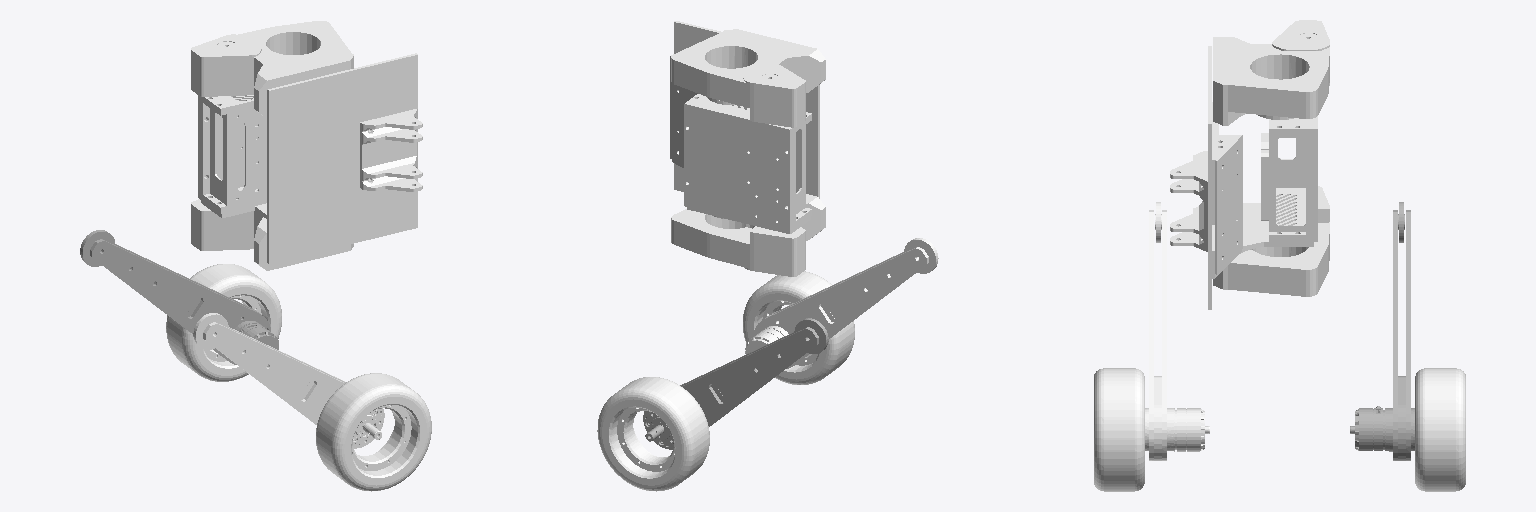
URDF robot description (meta_wl):
<?xml version="1.0" encoding="utf-8"?>
<!-- This URDF was automatically created by SolidWorks to URDF Exporter! Originally created by [author] ([email redacted]) 
     Commit Version: 1.6.0-4-g7f85cfe  Build Version: 1.6.7995.38578
     For more information, please see http://wiki.ros.org/sw_urdf_exporter -->
<robot
  name="meta_wl">
  <link
    name="base_link">
    <inertial>
      <origin
        xyz="-0.0245766710804395 1.12954262751902E-05 0.0551837979582068"
        rpy="0 0 0" />
      <mass
        value="3.422" />
      <inertia
        ixx="16516E-6"
        ixy="408E-6"
        ixz="-1864E-6"
        iyy="12477E-6"
        iyz="301E-6"
        izz="22170E-6" />
    </inertial>
    <visual>
      <origin
        xyz="0 0 0"
        rpy="0 0 0" />
      <geometry>
        <mesh
          filename="../meshes/base_link.STL" />
      </geometry>
      <material
        name="">
        <color
          rgba="1 1 1 0.35" />
      </material>
    </visual>
    <collision>
      <origin
        xyz="0 0 0"
        rpy="0 0 0" />
      <geometry>
        <mesh
          filename="../meshes/base_link.STL" />
      </geometry>
    </collision>
  </link>
  <link
    name="l_leg_link">
    <inertial>
      <origin
        xyz="0.167137810001204 0.0899559625004974 0.00695176949094712"
        rpy="0 0 0" />
      <mass
        value="0.205618463841969" />
      <inertia
        ixx="0.00046553666866474"
        ixy="-4.84637387403824E-05"
        ixz="5.46297742111448E-08"
        iyy="4.41718311000394E-05"
        iyz="5.54929141091411E-08"
        izz="0.000498095795724903" />
    </inertial>
    <visual>
      <origin
        xyz="0 0 0"
        rpy="0 0 0" />
      <geometry>
        <mesh
          filename="../meshes/l_leg_link.STL" />
      </geometry>
      <material
        name="">
        <color
          rgba="0.752941176470588 0.752941176470588 0.752941176470588 1" />
      </material>
    </visual>
    <collision>
      <origin
        xyz="0 0 0"
        rpy="0 0 0" />
      <geometry>
        <mesh
          filename="../meshes/l_leg_link.STL" />
      </geometry>
    </collision>
  </link>
  <joint
    name="l_leg_joint"
    type="prismatic">
    <origin
      xyz="-0.02 0.121 0.066"
      rpy="-1.5708 1.0033 3.1416" />
    <parent
      link="base_link" />
    <child
      link="l_leg_link" />
    <axis
      xyz="0.72714 0.68649 0" />
    <limit
      lower="-0.436"
      upper="0.262"
      effort="30"
      velocity="1000" />
    <dynamics
      damping="0"
      friction="0" />
  </joint>
  <link
    name="l_wheel_link">
    <inertial>
      <origin
        xyz="-2.24126273096203E-14 8.40993941153556E-14 0.0139999999999988"
        rpy="0 0 0" />
      <mass
        value="0.363247599426668" />
      <inertia
        ixx="0.000498536075854535"
        ixy="-2.91728214437939E-20"
        ixz="-1.82213908907247E-19"
        iyy="0.000498536075854535"
        iyz="6.53614897137412E-19"
        izz="0.000872747056357901" />
    </inertial>
    <visual>
      <origin
        xyz="0 0 0"
        rpy="0 0 0" />
      <geometry>
        <mesh
          filename="../meshes/l_wheel_link.STL" />
      </geometry>
      <material
        name="">
        <color
          rgba="1 1 1 0.35" />
      </material>
    </visual>
    <collision>
      <origin
        xyz="0 0 0"
        rpy="0 0 0" />
      <geometry>
        <mesh
          filename="../meshes/l_wheel_link.STL" />
      </geometry>
    </collision>
  </link>
  <joint
    name="l_wheel_joint"
    type="continuous">
    <origin
      xyz="0.17292 0.14156 -0.04955"
      rpy="0 0 2.1383" />
    <parent
      link="l_leg_link" />
    <child
      link="l_wheel_link" />
    <axis
      xyz="0 0 1" />
  </joint>
  <link
    name="r_leg_link">
    <inertial>
      <origin
        xyz="0.167088762600156 0.0899465472498976 -0.00195176952340823"
        rpy="0 0 0" />
      <mass
        value="0.205618464210299" />
      <inertia
        ixx="0.000465594895859004"
        ixy="-4.86098121999377E-05"
        ixz="7.1294683245929E-08"
        iyy="4.41136039089308E-05"
        iyz="-3.13200238715791E-08"
        izz="0.000498095795726478" />
    </inertial>
    <visual>
      <origin
        xyz="0 0 0"
        rpy="0 0 0" />
      <geometry>
        <mesh
          filename="../meshes/r_leg_link.STL" />
      </geometry>
      <material
        name="">
        <color
          rgba="1 1 1 0.35" />
      </material>
    </visual>
    <collision>
      <origin
        xyz="0 0 0"
        rpy="0 0 0" />
      <geometry>
        <mesh
          filename="../meshes/r_leg_link.STL" />
      </geometry>
    </collision>
  </link>
  <joint
    name="r_leg_joint"
    type="prismatic">
    <origin
      xyz="-0.02 -0.116 0.066"
      rpy="-1.5708 1.0033 3.1416" />
    <parent
      link="base_link" />
    <child
      link="r_leg_link" />
    <axis
      xyz="0.72714 0.68649 0" />
    <limit
      lower="-0.436"
      upper="0.262"
      effort="30"
      velocity="1000" />
    <dynamics
      damping="0"
      friction="0" />
  </joint>
  <link
    name="r_wheel_link">
    <inertial>
      <origin
        xyz="1.34441069388203E-14 -5.85087533977457E-14 -0.0140000000000002"
        rpy="0 0 0" />
      <mass
        value="0.363247599426668" />
      <inertia
        ixx="0.000498536075854535"
        ixy="8.16732701031044E-21"
        ixz="-2.66467760966762E-20"
        iyy="0.000498536075854535"
        iyz="9.529283117045E-20"
        izz="0.000872747056357902" />
    </inertial>
    <visual>
      <origin
        xyz="0 0 0"
        rpy="0 0 0" />
      <geometry>
        <mesh
          filename="../meshes/r_wheel_link.STL" />
      </geometry>
      <material
        name="">
        <color
          rgba="1 1 1 0.35" />
      </material>
    </visual>
    <collision>
      <origin
        xyz="0 0 0"
        rpy="0 0 0" />
      <geometry>
        <mesh
          filename="../meshes/r_wheel_link.STL" />
      </geometry>
    </collision>
  </link>
  <joint
    name="r_wheel_joint"
    type="continuous">
    <origin
      xyz="0.17292 0.14156 0.05455"
      rpy="0 0 2.1383" />
    <parent
      link="r_leg_link" />
    <child
      link="r_wheel_link" />
    <axis
      xyz="0 0 1" />
  </joint>
</robot>

--- Facts derived from the render (not from the file) ---
3 views of the same robot in one strip: view 1: azimuth 30°, elevation 25°; view 2: azimuth 150°, elevation 25°; view 3: azimuth 270°, elevation 25° (orthographic).
Robot: meta_wl — 5 links, 4 joints (2 continuous, 2 prismatic); root link base_link; default pose: all joints at 0.
Links seen in each view (by area): view 1: base_link, r_wheel_link, l_leg_link, r_leg_link, l_wheel_link; view 2: base_link, l_wheel_link, r_leg_link, l_leg_link, r_wheel_link; view 3: base_link, l_wheel_link, r_wheel_link, r_leg_link, l_leg_link.
Link boxes in pixels (left/top/right/bottom): base_link: left=191, top=21, right=422, bottom=270; r_wheel_link: left=316, top=373, right=431, bottom=491; l_leg_link: left=80, top=230, right=278, bottom=364; r_leg_link: left=193, top=313, right=384, bottom=448; l_wheel_link: left=166, top=264, right=281, bottom=381; base_link: left=670, top=21, right=825, bottom=276; l_wheel_link: left=597, top=377, right=709, bottom=491; r_leg_link: left=745, top=238, right=938, bottom=368; l_leg_link: left=643, top=318, right=828, bottom=449; r_wheel_link: left=743, top=271, right=854, bottom=384; base_link: left=1170, top=20, right=1329, bottom=309; l_wheel_link: left=1415, top=368, right=1465, bottom=491; r_wheel_link: left=1094, top=368, right=1144, bottom=491; r_leg_link: left=1145, top=202, right=1209, bottom=460; l_leg_link: left=1350, top=202, right=1414, bottom=460.
Bounding box of the posed robot: 0.2999 × 0.3631 × 0.4489 m (x, y, z).
5 mesh visuals loaded from 5 distinct referenced files (5 binary STL).